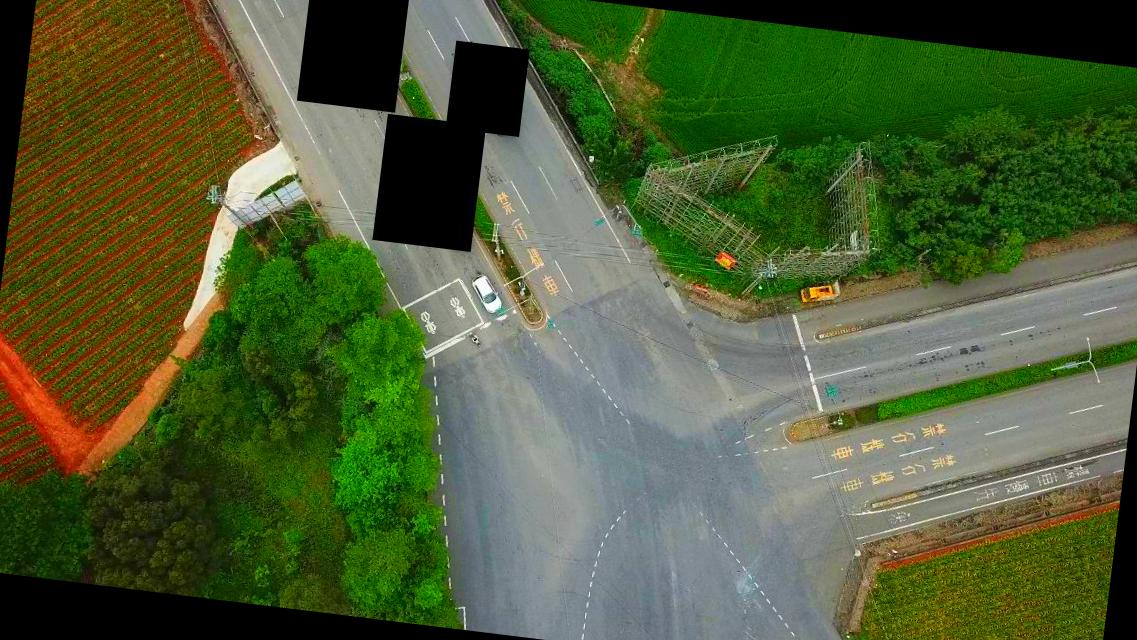vehicle: (467, 272, 504, 314), (798, 280, 835, 305)
